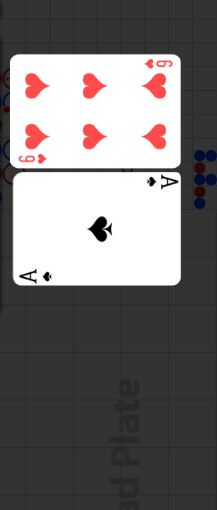6H: (17, 152, 49, 164)
AS: (144, 174, 179, 191)
